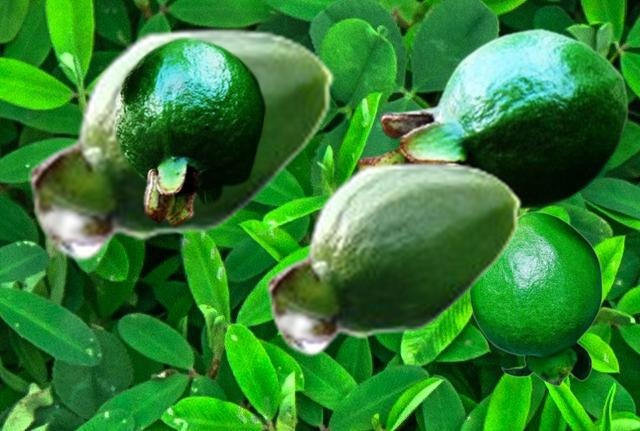guava: (28, 26, 334, 261), (356, 27, 628, 212), (266, 160, 521, 356), (113, 36, 266, 227), (468, 211, 602, 385)
